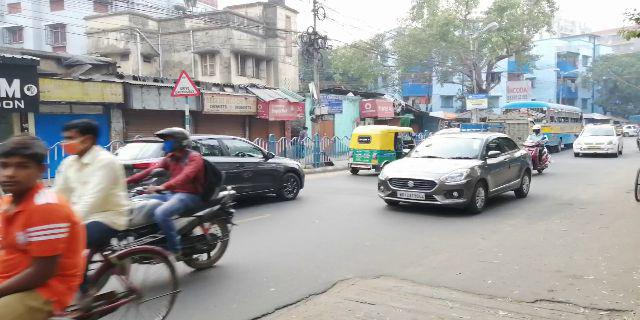Autorickshaw: (344, 124, 408, 171)
Car: (372, 130, 532, 212), (194, 132, 310, 208), (577, 122, 623, 160)
Motorbike: (118, 128, 236, 273)
